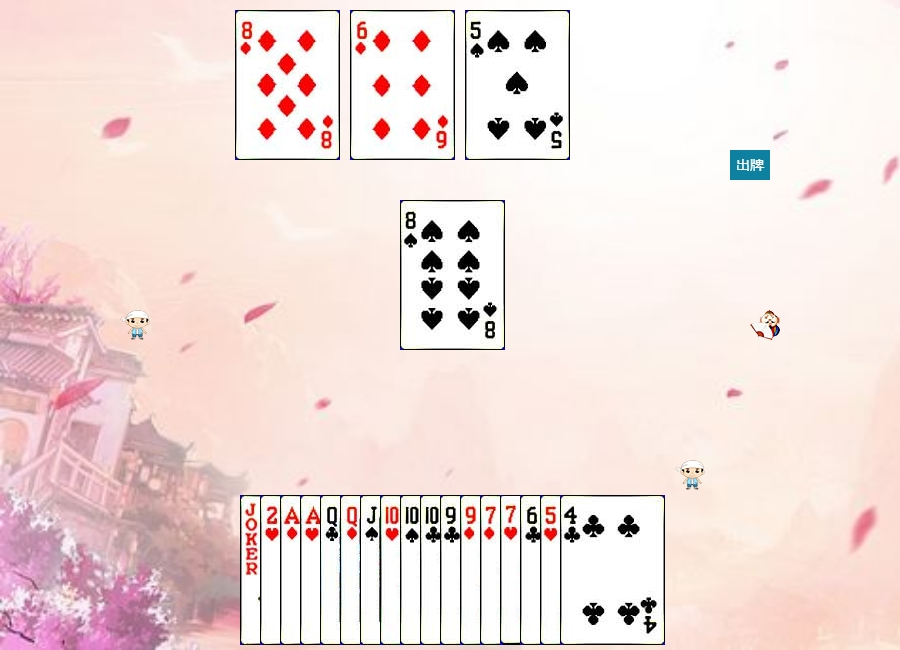10~2: (420, 495, 525, 645)
10~3: (380, 495, 485, 645)
10~4: (400, 495, 505, 645)
11~4: (360, 495, 465, 645)
12~1: (340, 495, 445, 645)
12~2: (320, 495, 425, 645)
14~1: (280, 495, 385, 645)
14~3: (300, 495, 405, 645)
15~3: (260, 495, 365, 645)
18~4: (240, 495, 345, 645)
4~2: (560, 495, 665, 645)
5~3: (540, 495, 645, 645)
5~4: (465, 10, 570, 160)
6~1: (350, 10, 455, 160)
6~2: (520, 495, 625, 645)
7~1: (480, 495, 585, 645)
7~3: (500, 495, 605, 645)
8~1: (235, 10, 340, 160)
8~4: (400, 200, 505, 350)
9~1: (460, 495, 565, 645)
9~2: (440, 495, 545, 645)
